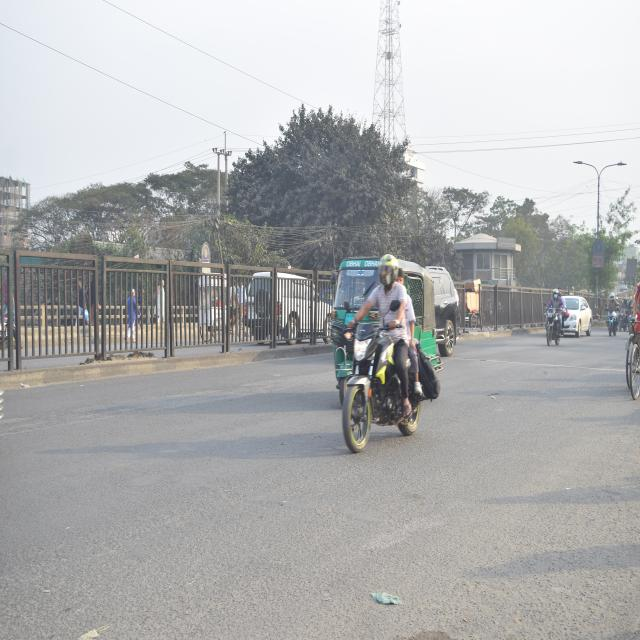car: (564, 294, 592, 338)
motorbike: (324, 300, 428, 447), (537, 297, 564, 347), (606, 298, 620, 338)
